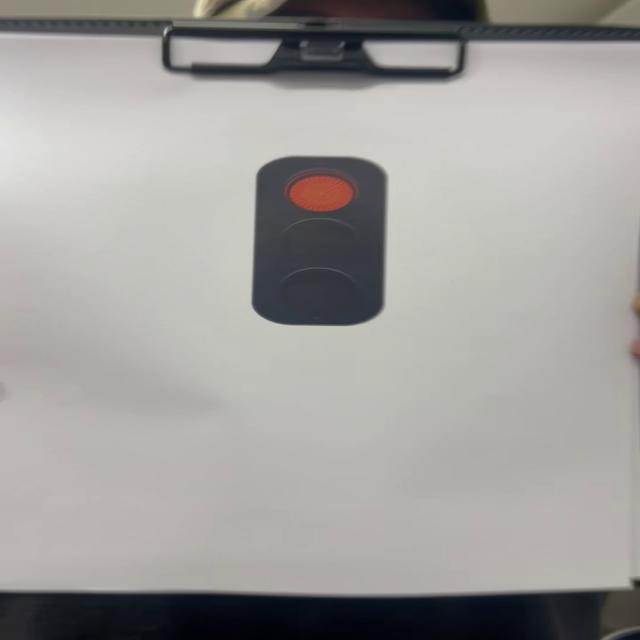red: (250, 154, 389, 327)
